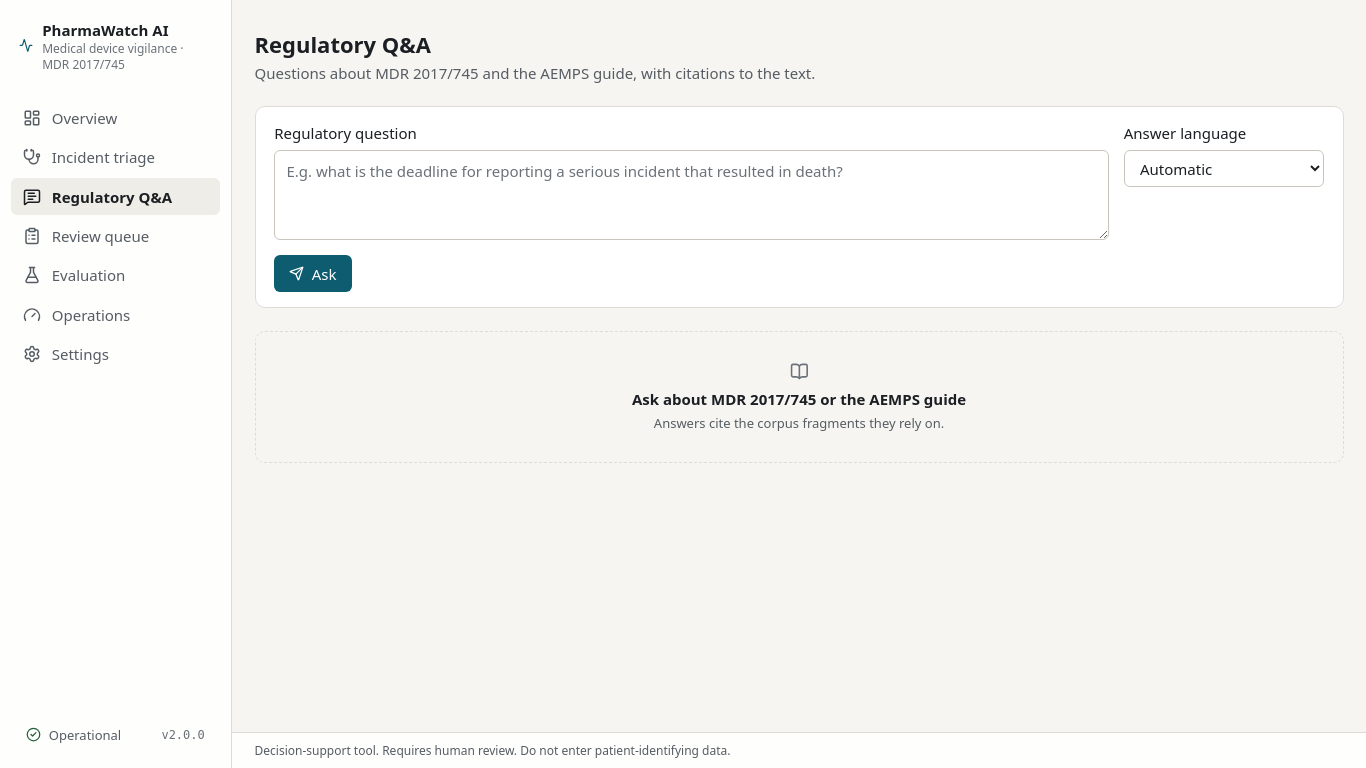
Test: regulatory Q&A › renders citations as buttons that open the exact cited fragment
The image size is (1366, 768).
Type "What is the reporting deadline for a death under the MDR?" into the text box labelled "Regulatory question".
click(692, 195); type("What is the reporting deadline for a death under the MDR?")  # box 274,150 -> 1109,240
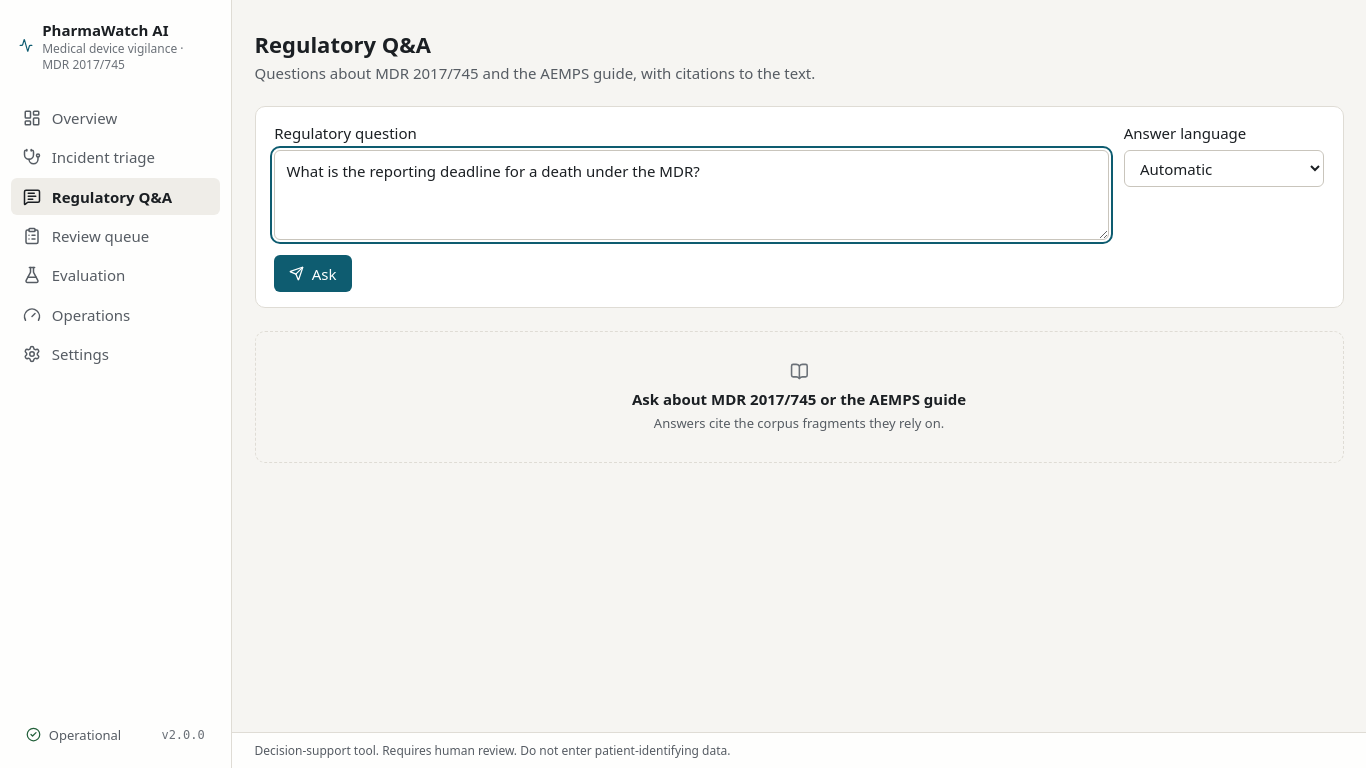
Click the button "Ask".
click(313, 274)  # box 274,255 -> 352,292
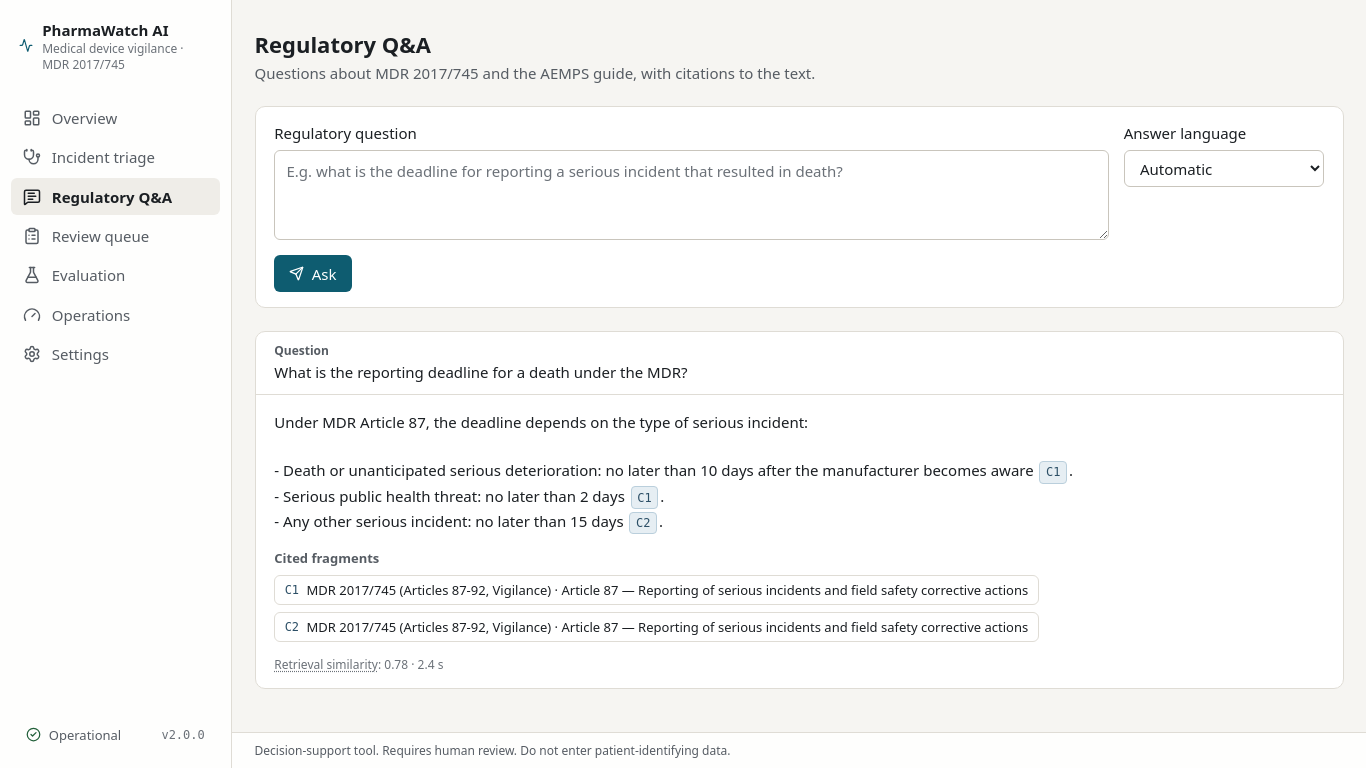
Click the button named "C1: MDR 2017/745".
click(1053, 472)  # box 1040,461 -> 1067,484
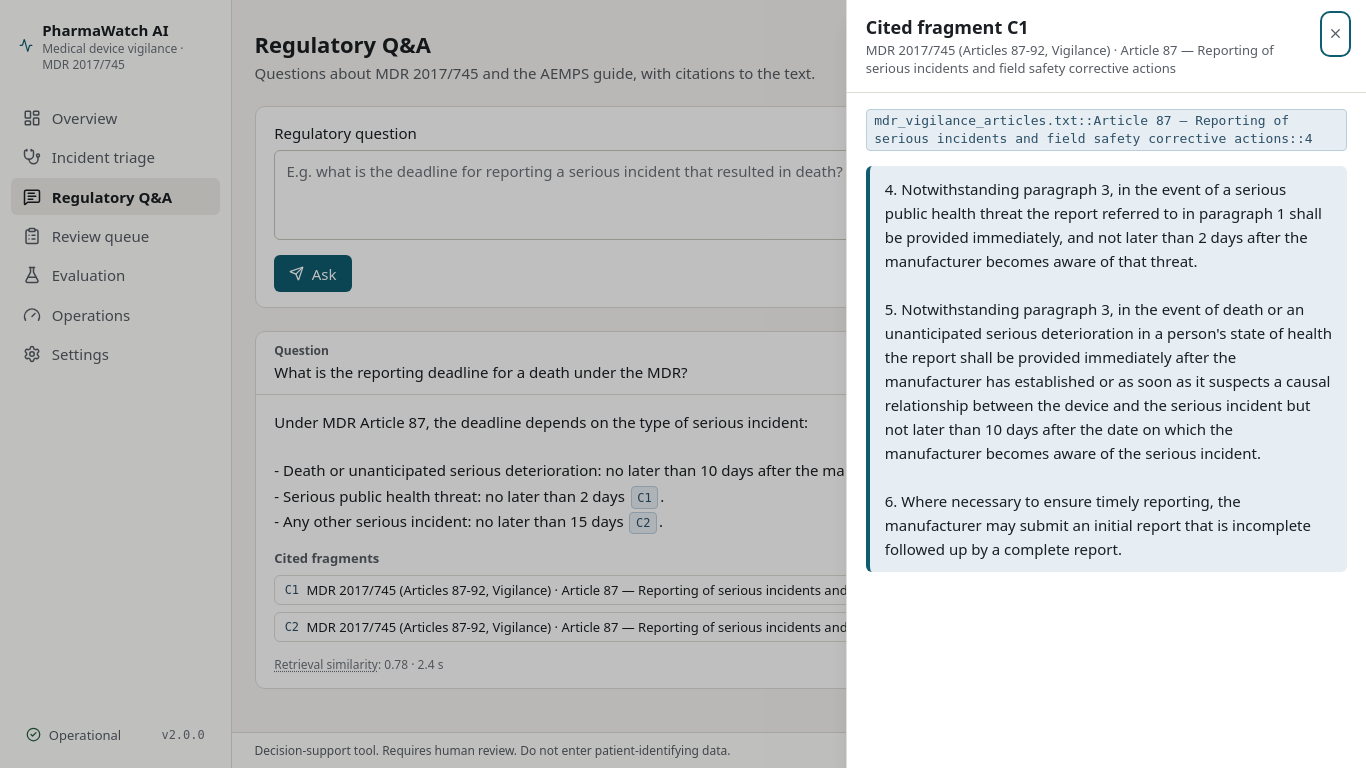
Check: the text "Article 87 — Reporting" is shown, box 866,41 -> 1274,77
Press Escape
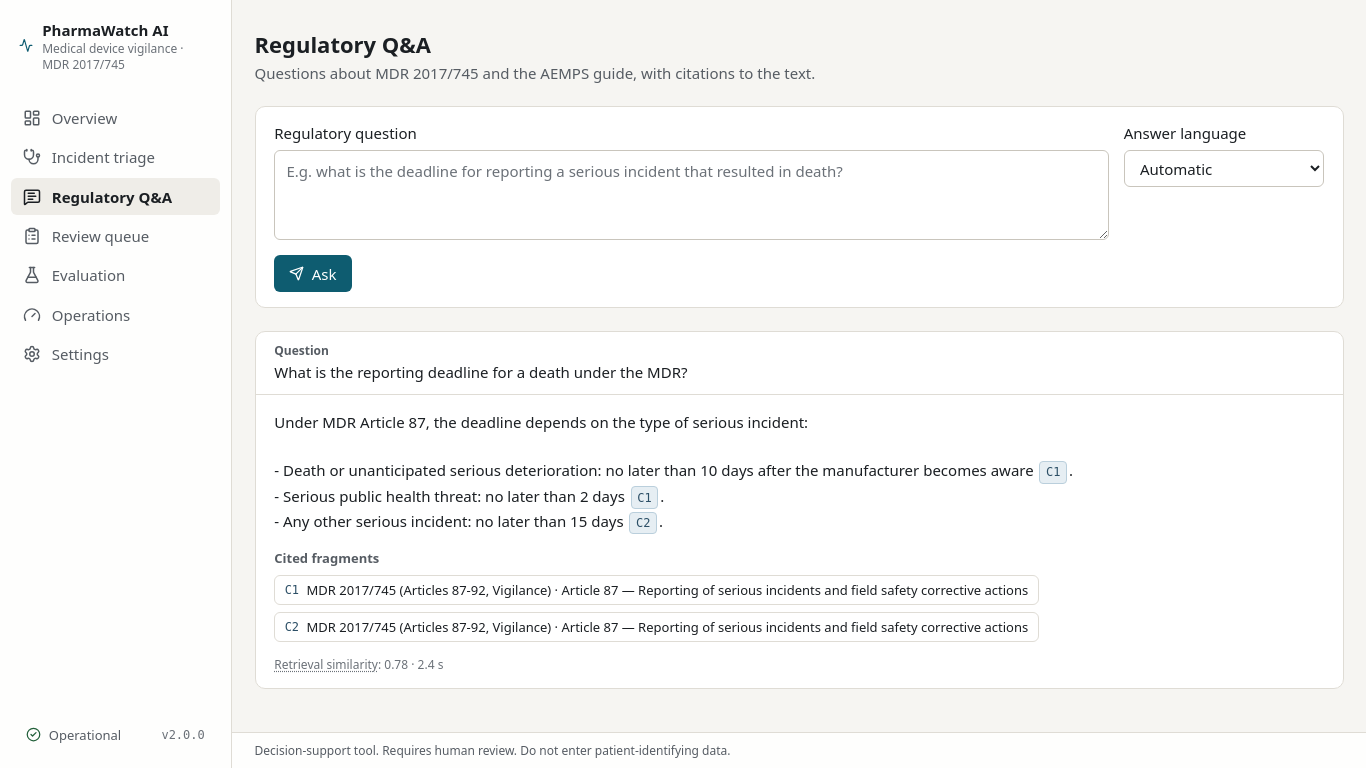
Check: the dialog is gone
